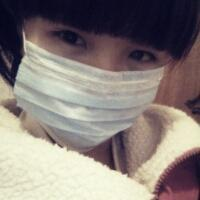face_mask: (12, 0, 176, 158)
